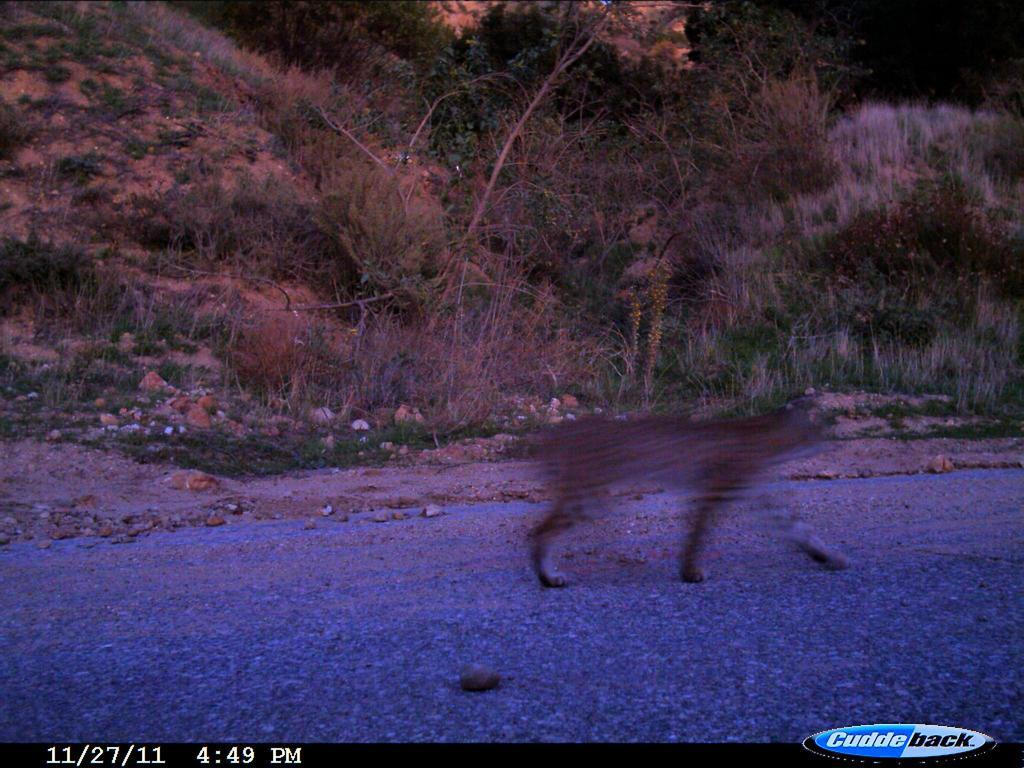bobcat: (484, 381, 880, 611)
